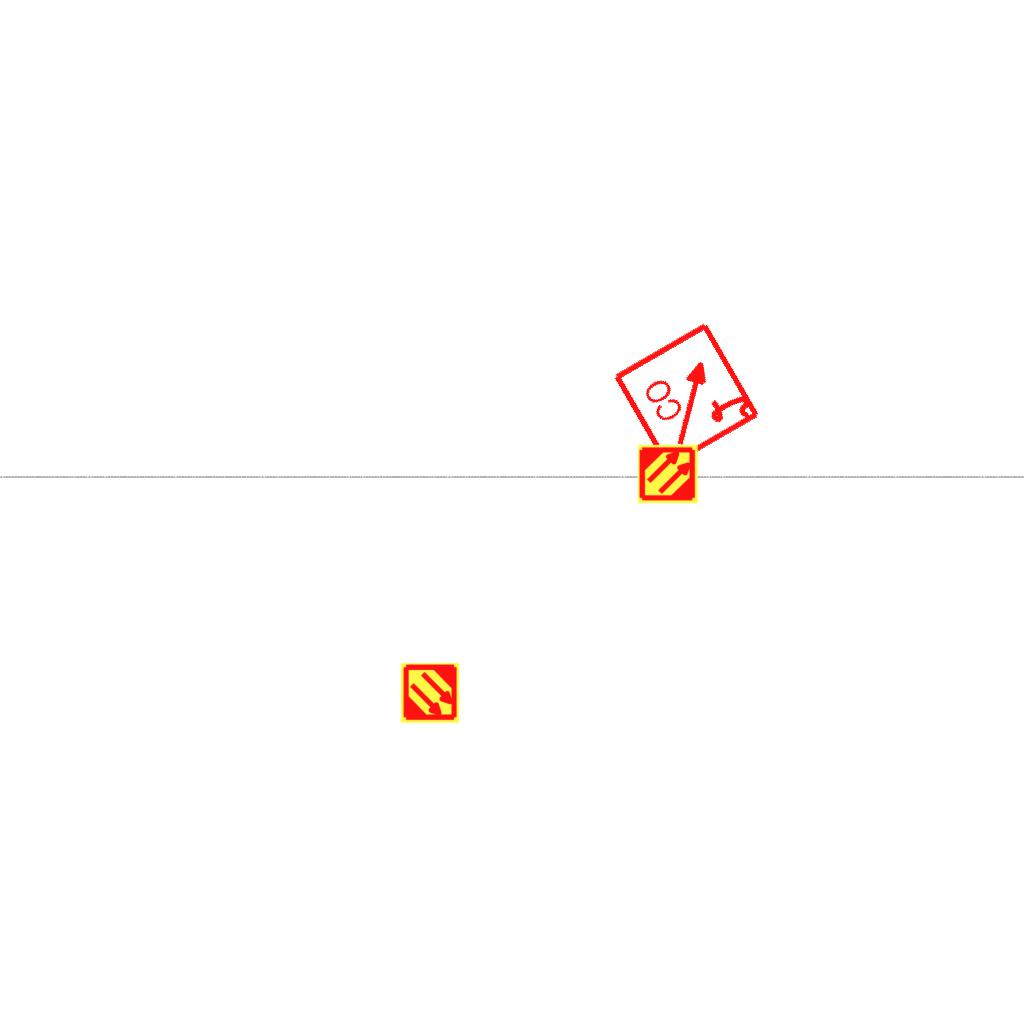ASR_Ansaugrauchmelder: (637, 443, 699, 505), (399, 662, 461, 724)
ROA_Rauchmelder_optisch_mit_Signalgeber_(Sockelsirene): (610, 317, 765, 472)
